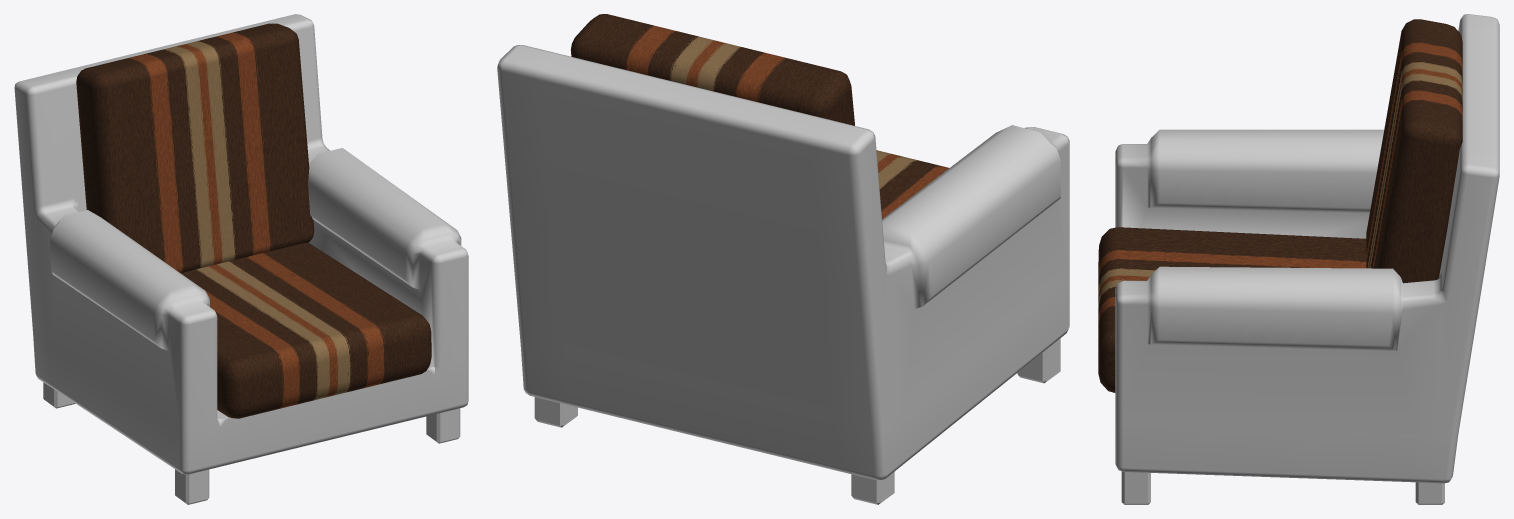
Rendered from En_P_Chair.fbx.
3 renders of one model, left to right at view 1: azimuth 30°, elevation 25°; view 2: azimuth 150°, elevation 25°; view 3: azimuth 270°, elevation 25°, orthographic. The views are drawn at different scales.
Parts seen in each view (by area): view 1: ComfyChair; view 2: ComfyChair; view 3: ComfyChair.
Part boxes in pixels (left/top/right/bottom): ComfyChair: left=14, top=14, right=468, bottom=504; ComfyChair: left=497, top=14, right=1069, bottom=504; ComfyChair: left=1098, top=14, right=1499, bottom=504.
Bounding box in the file's own units: 94.58 × 95.25 × 95.77.
